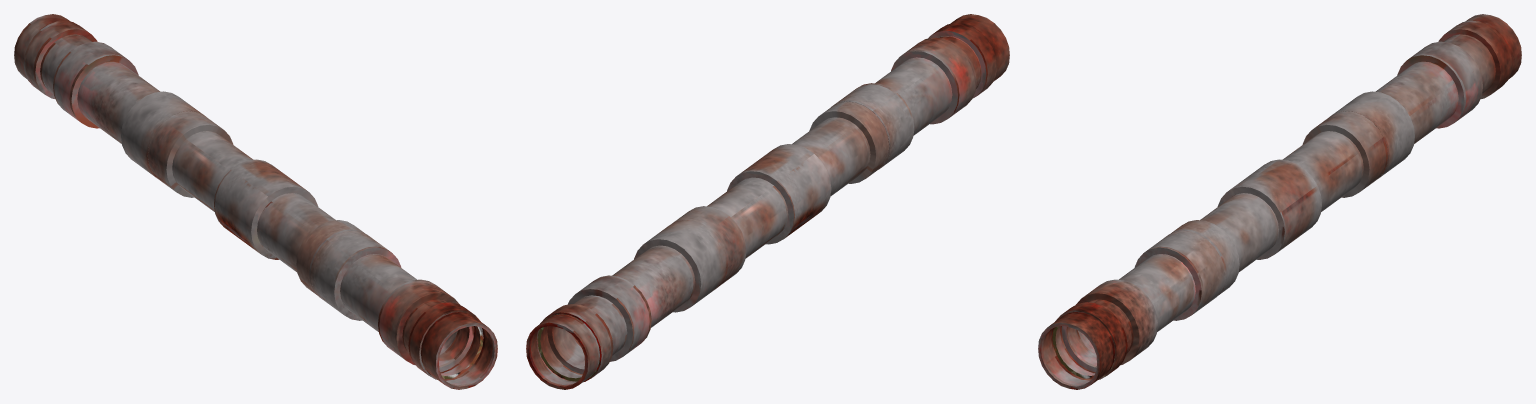
Rendered from CanoTubulacao.fbx.
3 views of the same model, side by side, from view 1: azimuth 30°, elevation 25°; view 2: azimuth 150°, elevation 25°; view 3: azimuth 330°, elevation 25° (orthographic).
Parts seen in each view (by area): view 1: CanoTubulacao; view 2: CanoTubulacao; view 3: CanoTubulacao.
Part boxes in pixels (<box>): CanoTubulacao: <box>14,14,497,389</box>; CanoTubulacao: <box>526,14,1009,389</box>; CanoTubulacao: <box>1038,14,1521,389</box>.
Size of the model in its own units: 77.23 by 77.23 by 826.
